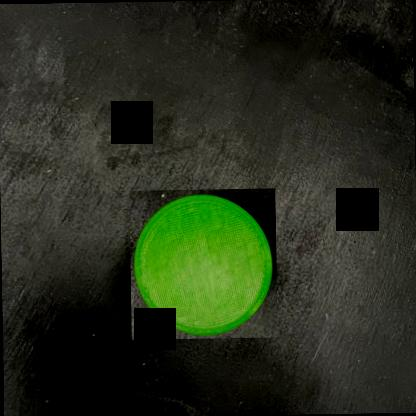green cylinder: (129, 188, 277, 339)
